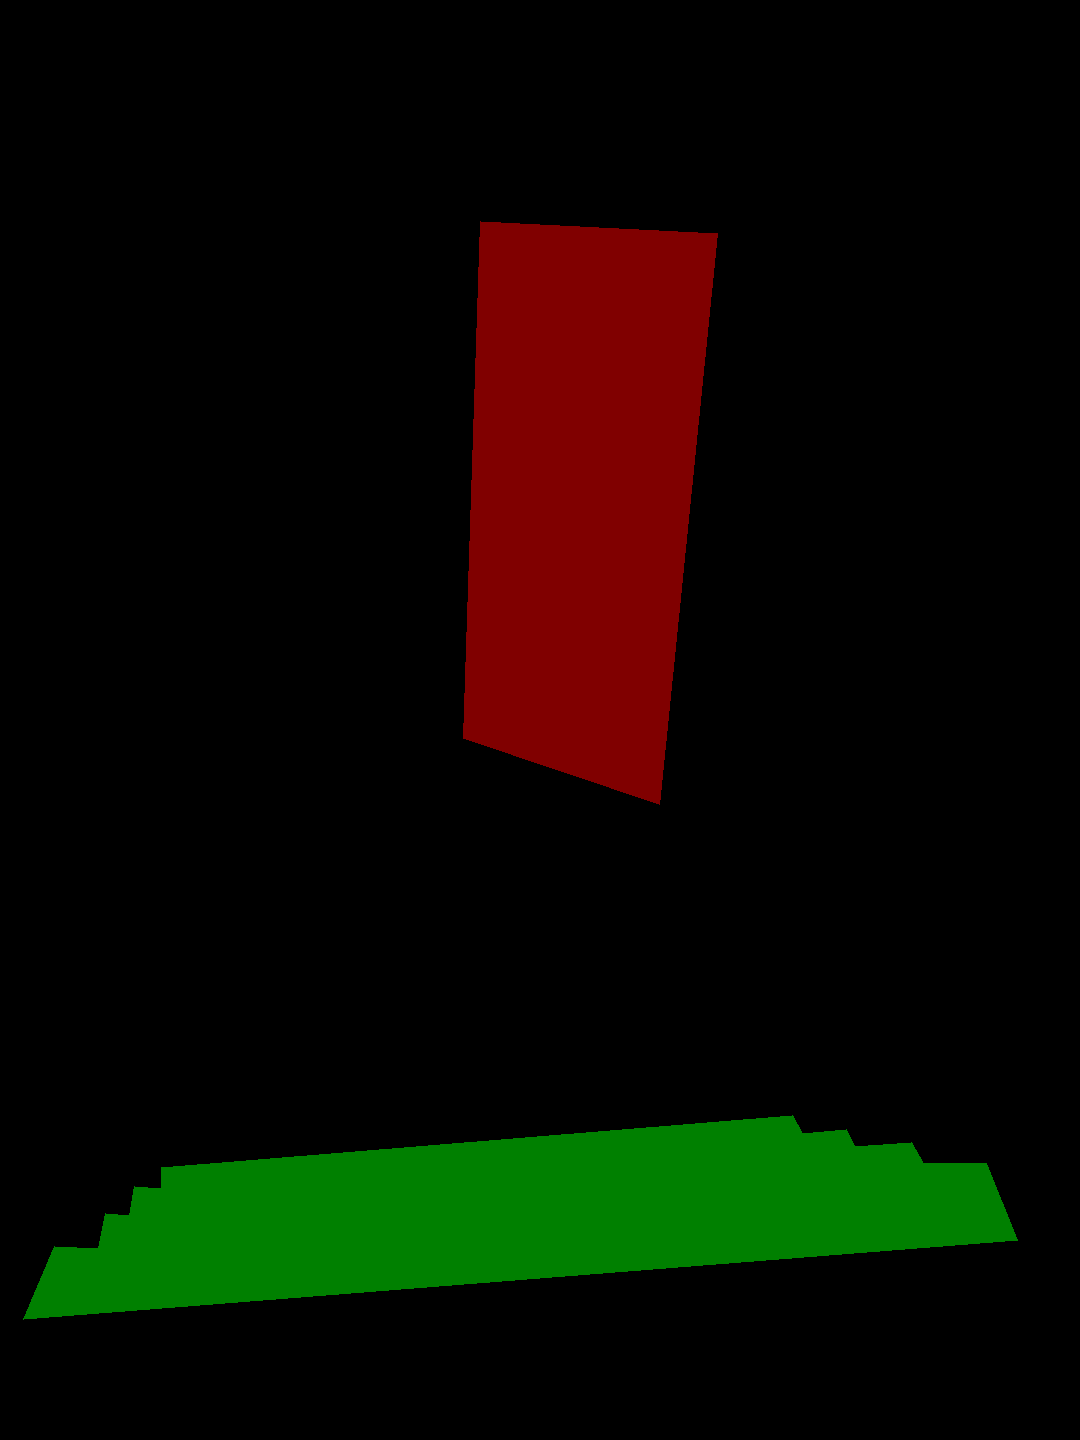door: (463, 221, 717, 804)
stair: (23, 1115, 1016, 1319)
